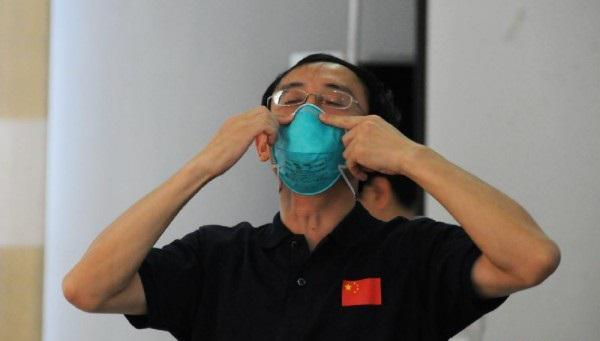OK: (264, 74, 365, 175)
